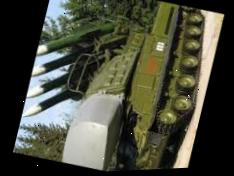rszo: (10, 0, 219, 176)
